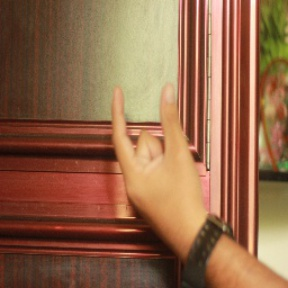U: (102, 73, 199, 221)
